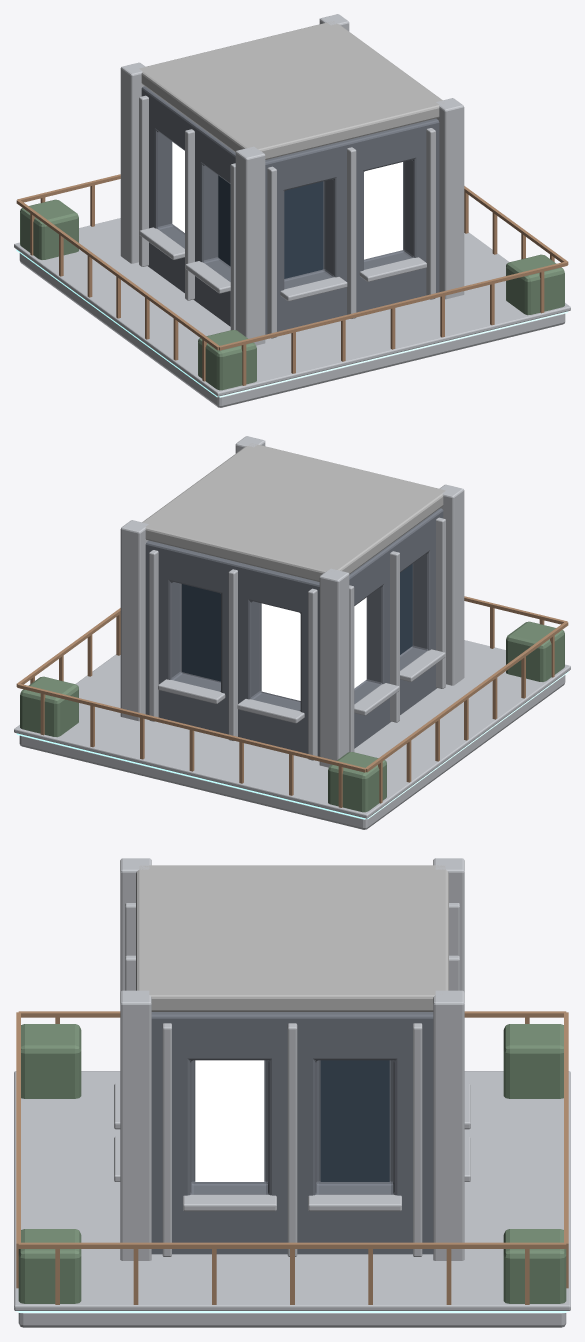
File: transfer3to2.glb
The picture shows the model from 3 angles, top to bottom: view 1: azimuth 30°, elevation 25°; view 2: azimuth 150°, elevation 25°; view 3: azimuth 270°, elevation 25°; orthographic projection. The views are drawn at different scales.
Parts seen in each view (by area): view 1: ext_wall, int_ceiling, int_slab_edge, int_columns, ext_frames, ext_deck_rail, ext_deck_plants, int_slab, ext_panes_dark, ext_panes_lit, ext_deck_glow; view 2: ext_wall, int_ceiling, int_slab_edge, int_columns, ext_frames, ext_deck_rail, ext_deck_plants, int_slab, ext_panes_lit, ext_panes_dark, ext_deck_glow; view 3: int_slab_edge, int_ceiling, ext_wall, int_columns, ext_deck_plants, ext_frames, ext_deck_rail, ext_panes_lit, ext_panes_dark, int_slab, ext_deck_glow.
Boxes of the visible parts, x1,y1,x2,y2 form: ext_wall: [141, 86, 439, 334]; int_ceiling: [139, 21, 443, 159]; int_slab_edge: [14, 218, 570, 396]; int_columns: [120, 14, 464, 345]; ext_frames: [139, 95, 435, 338]; ext_deck_rail: [16, 174, 568, 385]; ext_deck_plants: [20, 199, 564, 390]; int_slab: [19, 253, 565, 407]; ext_panes_dark: [218, 175, 323, 278]; ext_panes_lit: [172, 142, 402, 259]; ext_deck_glow: [16, 249, 568, 397]; ext_wall: [145, 508, 443, 756]; int_ceiling: [142, 443, 445, 581]; int_slab_edge: [14, 640, 570, 818]; int_columns: [120, 436, 464, 767]; ext_frames: [149, 517, 445, 760]; ext_deck_rail: [16, 596, 568, 807]; ext_deck_plants: [20, 621, 564, 812]; int_slab: [19, 675, 565, 829]; ext_panes_lit: [261, 597, 366, 700]; ext_panes_dark: [182, 564, 412, 681]; ext_deck_glow: [16, 671, 568, 819]; int_slab_edge: [14, 1071, 570, 1310]; int_ceiling: [136, 865, 448, 1011]; ext_wall: [151, 1012, 433, 1254]; int_columns: [120, 858, 464, 1260]; ext_deck_plants: [18, 1024, 566, 1303]; ext_frames: [114, 903, 470, 1256]; ext_deck_rail: [16, 1011, 568, 1304]; ext_panes_lit: [195, 1060, 264, 1181]; ext_panes_dark: [320, 1060, 389, 1181]; int_slab: [18, 1313, 566, 1327]; ext_deck_glow: [15, 1311, 569, 1312].
Bounding box in the file's own units: 3.56 × 2 × 3.56.
